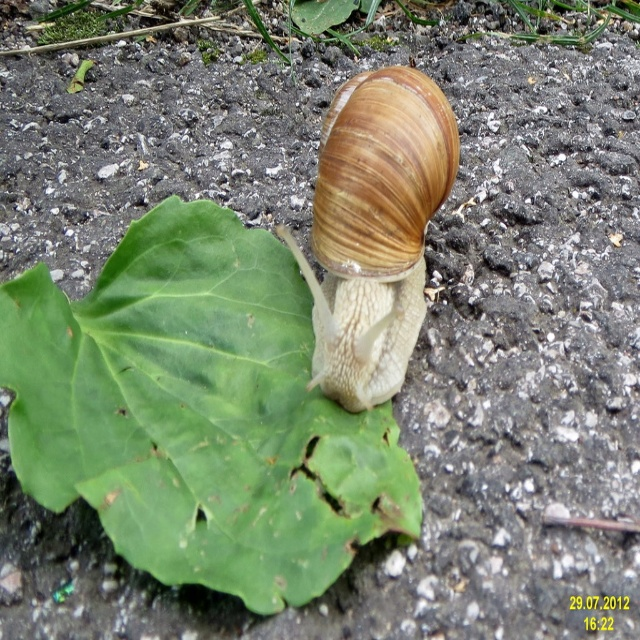Snail: (274, 62, 461, 421)
